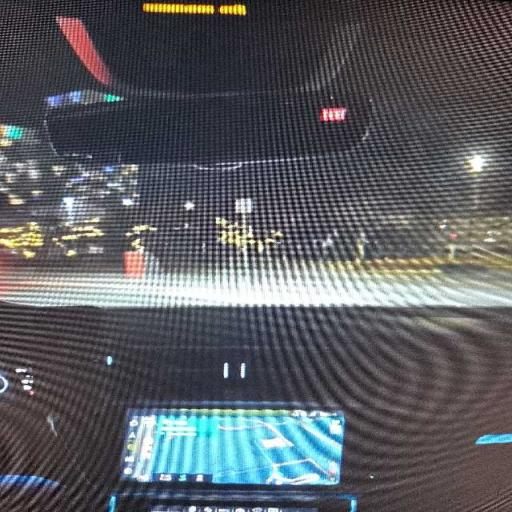car: (0, 0, 511, 511), (45, 0, 371, 169)
lane: (0, 271, 511, 307)
